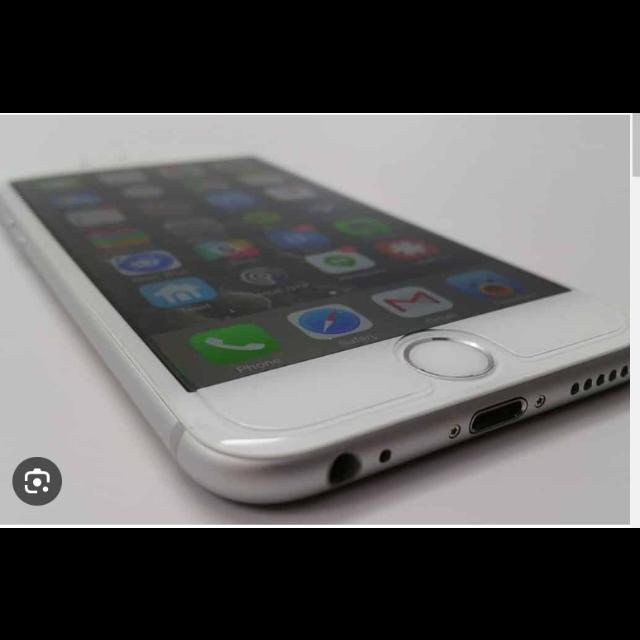Smartphone: (2, 153, 631, 508)
